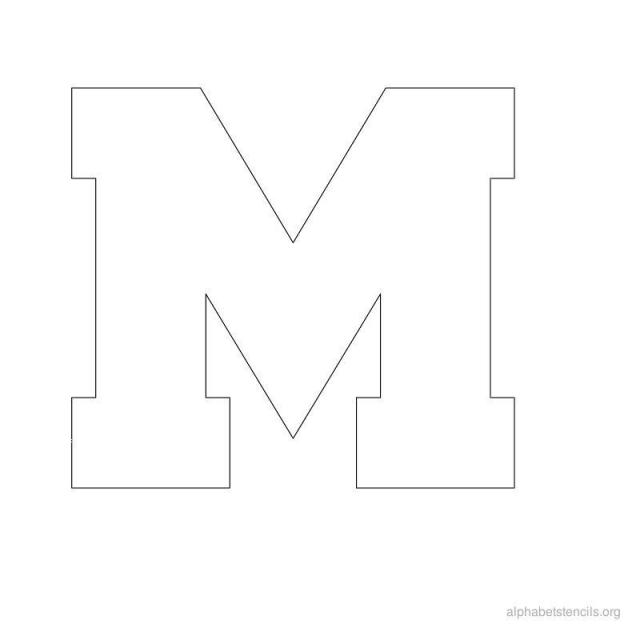M: (38, 46, 579, 563)
